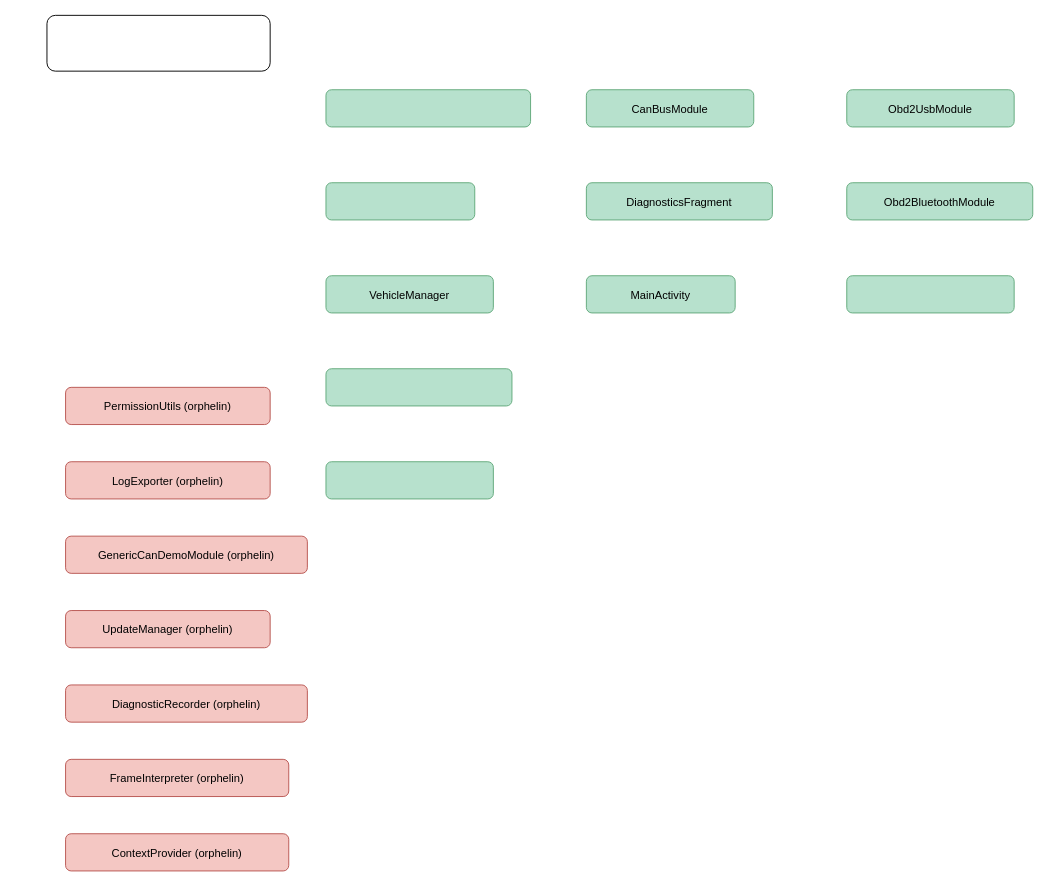
This 1048x886 diagram has some shape labels left out. Each missing label, with the box of its shape:
KLineUsbModule: (846, 275, 1014, 313)
LocaleUtils: (325, 461, 493, 499)
Légende : Vert = Utilisé Rouge = Orphelin (jamais appelé): (46, 14, 270, 71)
PsaKeyCalculator.calculateKey: (325, 89, 531, 127)
ReportGenerator: (325, 368, 512, 406)
UiUpdater: (325, 182, 475, 220)
